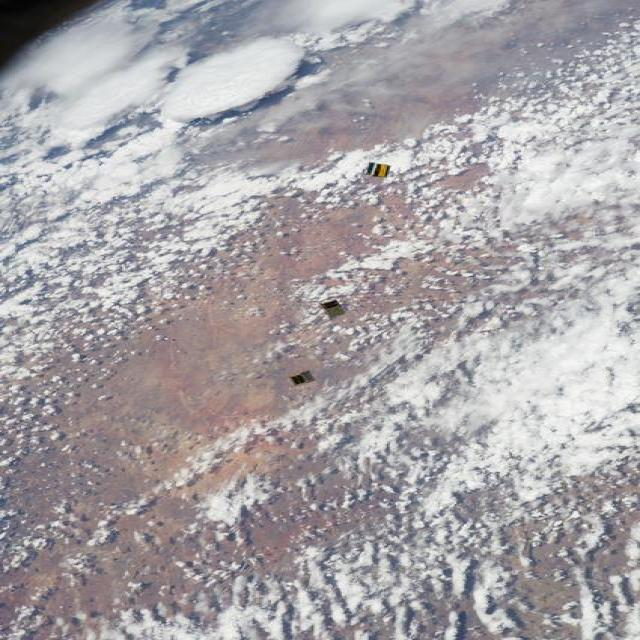medium_debris: (320, 299, 348, 319), (363, 162, 390, 177), (290, 370, 314, 384)
